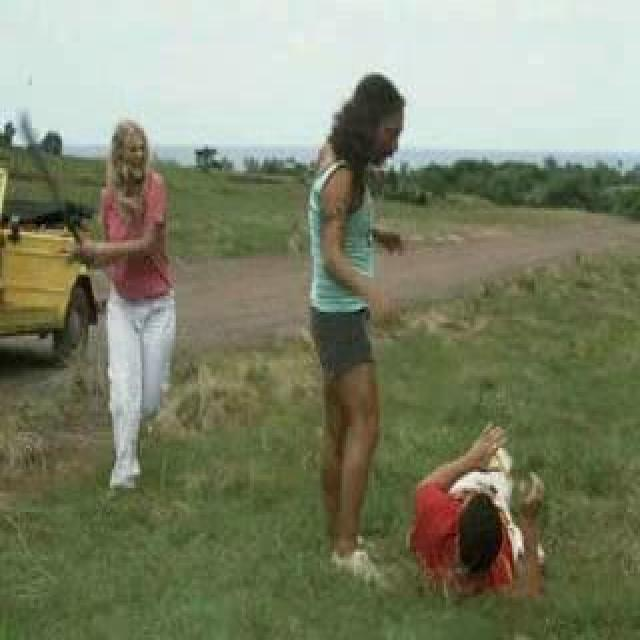fight: (294, 64, 640, 640), (15, 100, 225, 519)
